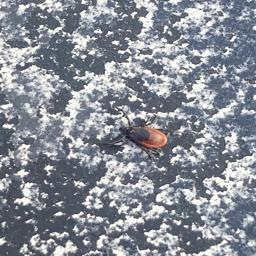Ixodes scapularis: (99, 108, 174, 160)
